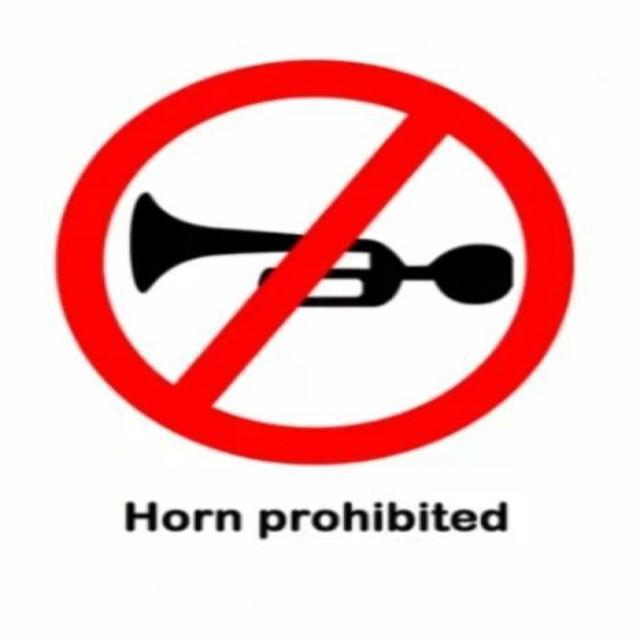horn prohibited: (57, 55, 578, 468)
